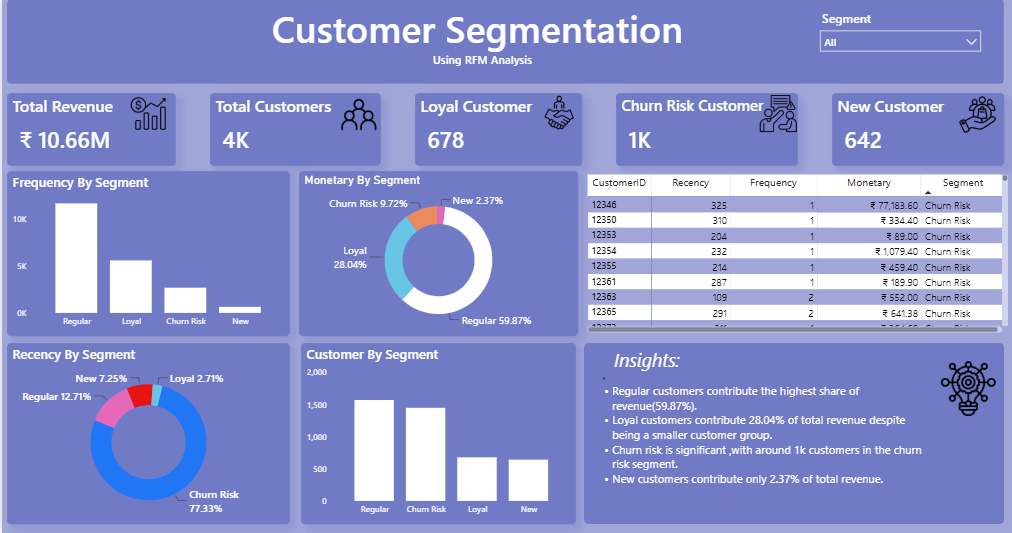

The dashboard page shown, as its layout file describes it:
{"tool":"powerbi","page":{"name":"Page 1","canvas":[1443,763],"ordinal":0},"visuals":[{"type":"shape","box":[7.1,0,1424.3,121.4],"z":0},{"type":"textbox","box":[287.1,0,798.6,121.4],"z":1000},{"type":"cardVisual","title":"Total Revenue","fields":{"Data":["Data.Total Revenue"]},"box":[7.1,134.3,241.4,104.3],"z":2000},{"type":"cardVisual","title":"Total Customers","fields":{"Data":["Data.Total Customer"]},"box":[297.1,134.3,244.3,104.3],"z":3000},{"type":"cardVisual","title":"Loyal Customer","fields":{"Data":["Data.Loyal Customer"]},"box":[590,134.3,238.6,104.3],"z":4000},{"type":"cardVisual","title":"Churn Risk Customer","fields":{"Data":["Data.Churn Risk Customer"]},"box":[877.1,134.3,260,104.3],"z":5000},{"type":"cardVisual","title":"New Customer","fields":{"Data":["Data.New Customers"]},"box":[1185.7,134.3,245.7,104.3],"z":6000},{"type":"columnChart","title":"Customer By Segment","fields":{"Category":["RFM Table.Segment"],"Y":["CountNonNull(RFM Table.CustomerID)"]},"box":[427.1,491.4,392.9,258.6],"z":7000},{"type":"shape","box":[831.4,491.4,600,258.6],"z":8000},{"type":"donutChart","title":"Recency By Segment","fields":{"Category":["RFM Table.Segment"],"Y":["Sum(RFM Table.Recency)"]},"box":[7.1,491.4,404.3,258.6],"z":9000},{"type":"pivotTable","fields":{"Rows":["RFM Table.CustomerID"],"Values":["Sum(RFM Table.Recency)","Sum(RFM Table.Frequency)","Sum(RFM Table.Monetary)","Min(RFM Table.Segment)"]},"box":[831.4,245.7,611.4,235.7],"z":10000},{"type":"donutChart","title":"Monetary By Segment","fields":{"Y":["Sum(RFM Table.Monetary)"],"Category":["RFM Table.Segment"]},"box":[424.3,245.7,398.6,235.7],"z":11000},{"type":"columnChart","title":"Frequency By Segment","fields":{"Y":["Sum(RFM Table.Frequency)"],"Category":["RFM Table.Segment"]},"box":[7.1,245.7,404.3,235.7],"z":12000},{"type":"slicer","fields":{"Values":["RFM Table.Segment"]},"box":[1158.6,10,250,101.4],"z":13000},{"type":"textbox","box":[842.9,491.4,492.9,258.6],"z":14000},{"type":"image","box":[182.9,138.6,52.9,50],"z":15000},{"type":"image","box":[484.3,137.1,51.4,55.7],"z":16000},{"type":"image","box":[771.4,134.3,48.6,55.7],"z":17000},{"type":"image","box":[1081.4,137.1,55.7,52.9],"z":18000},{"type":"image","box":[1365.7,137.1,55.7,55.7],"z":19000},{"type":"image","box":[1340,510,81.4,92.9],"z":20000}]}

Visuals, with their boxes in screenshot pixels (x1, y1, x2, y2), scaled from the page's 1443x763 canvas onto the 1012x533 screenshot:
shape: 5,0,1004,85
textbox: 201,0,761,85
"Total Revenue" cardVisual: 5,94,174,167
"Total Customers" cardVisual: 208,94,380,167
"Loyal Customer" cardVisual: 414,94,581,167
"Churn Risk Customer" cardVisual: 615,94,797,167
"New Customer" cardVisual: 832,94,1004,167
"Customer By Segment" columnChart: 300,343,575,524
shape: 583,343,1004,524
"Recency By Segment" donutChart: 5,343,289,524
pivotTable - RFM Table.CustomerID x Sum(RFM Table.Recency): 583,172,1011,336
"Monetary By Segment" donutChart: 298,172,577,336
"Frequency By Segment" columnChart: 5,172,289,336
slicer - RFM Table.Segment: 813,7,988,78
textbox: 591,343,937,524
image: 128,97,165,132
image: 340,96,376,135
image: 541,94,575,133
image: 758,96,797,133
image: 958,96,997,135
image: 940,356,997,421
